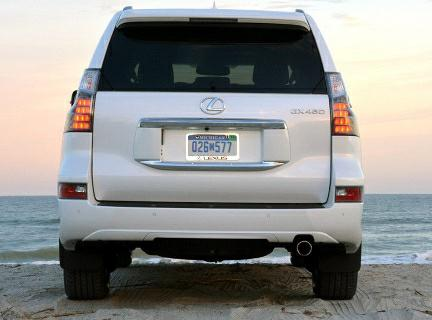雷克萨斯-GX: (47, 2, 375, 308)
